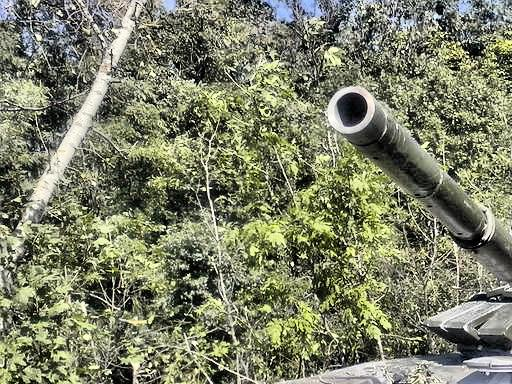tanks: (274, 89, 512, 384)
